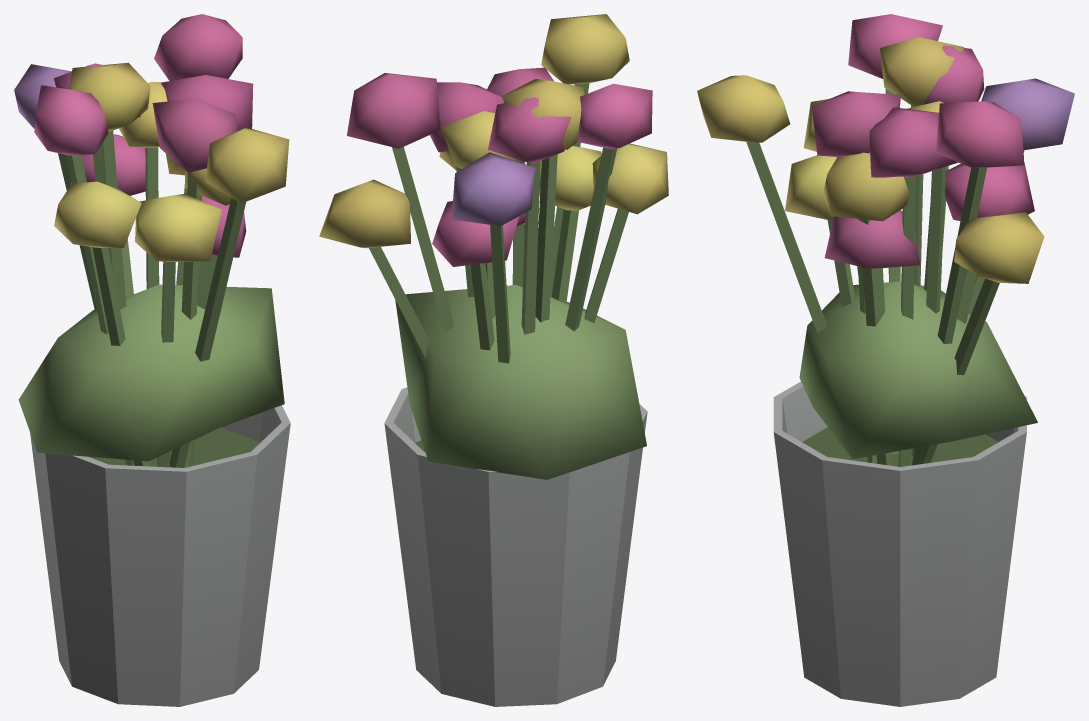
The model's file is SM_BM_BP_FlowerBucket.glb.
3 views of the same model, side by side, from view 1: azimuth 30°, elevation 25°; view 2: azimuth 150°, elevation 25°; view 3: azimuth 270°, elevation 25° (orthographic).
Visible parts, largest first — view 1: SM_BM_BP_FlowerBucket; view 2: SM_BM_BP_FlowerBucket; view 3: SM_BM_BP_FlowerBucket.
Part boxes in pixels (x1,y1,x2,y2): SM_BM_BP_FlowerBucket: (14,14,290,706); SM_BM_BP_FlowerBucket: (319,14,668,706); SM_BM_BP_FlowerBucket: (697,14,1074,706).
Bounding box in the file's own units: 0.3284 × 0.7278 × 0.4116.
